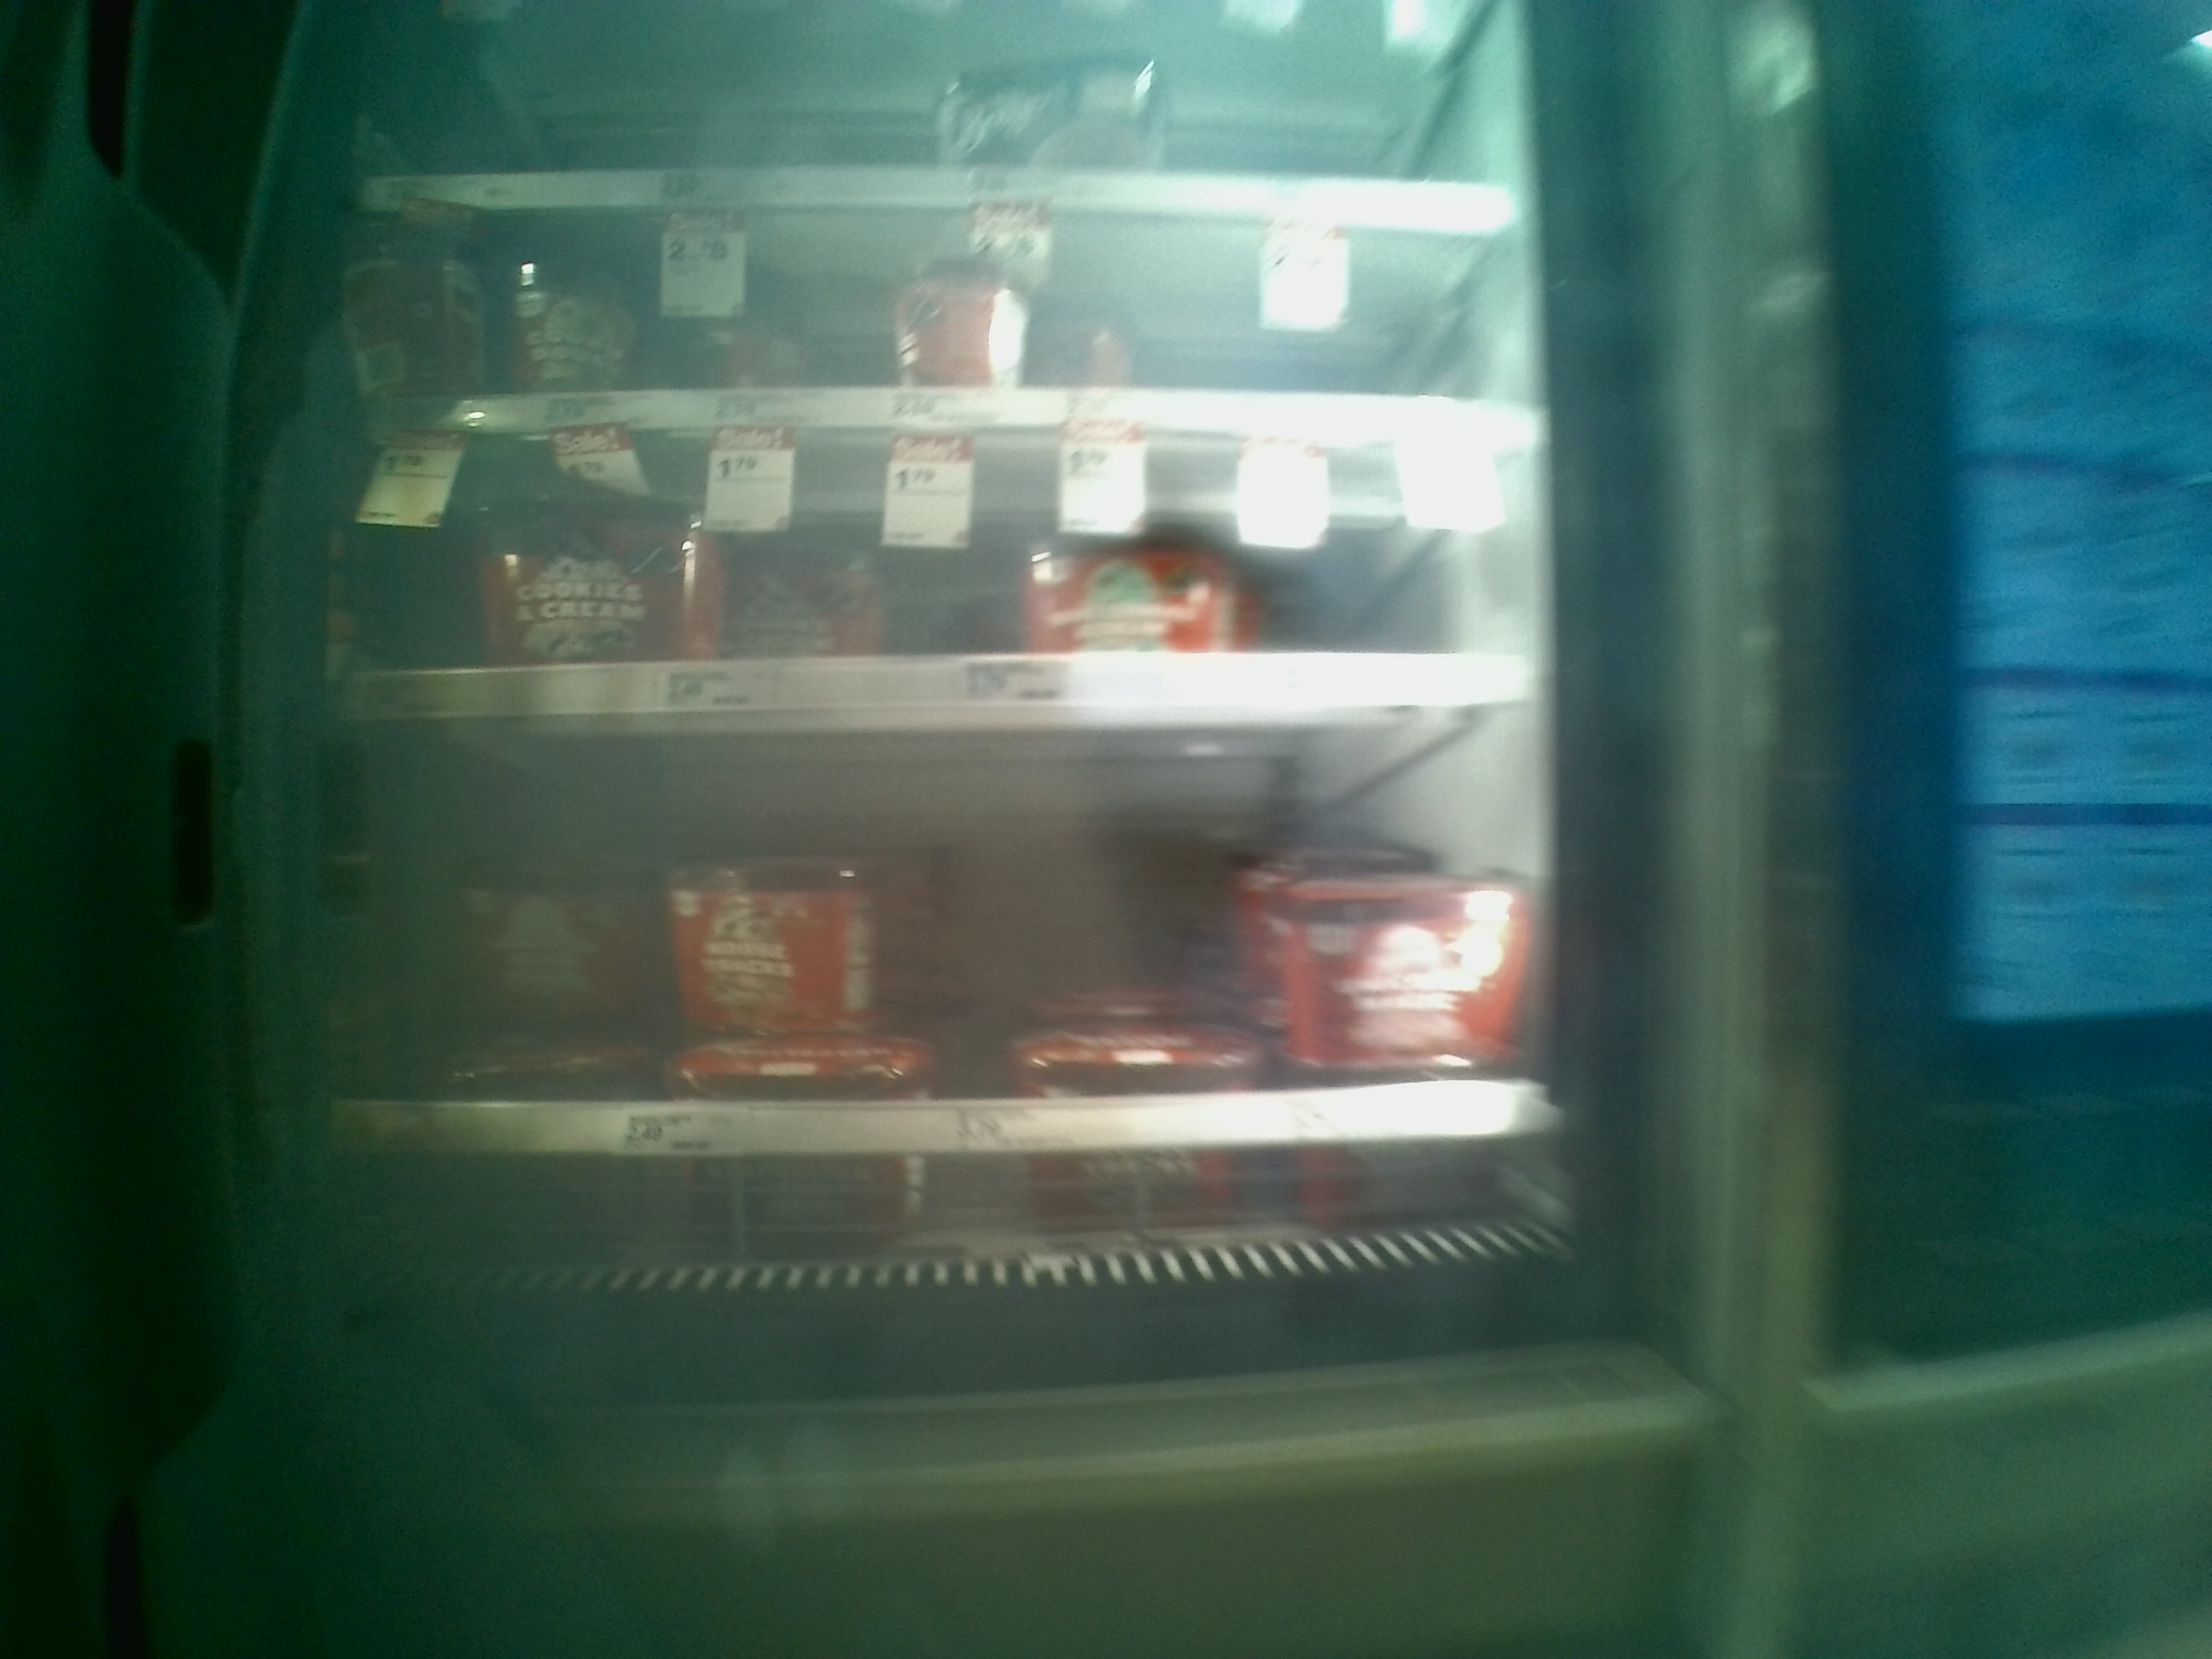shelf: (369, 704, 1548, 1274), (366, 430, 1548, 706), (348, 202, 1554, 432)
